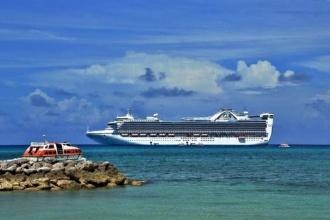otherboat: (20, 136, 85, 160)
youlun: (85, 106, 277, 147)
